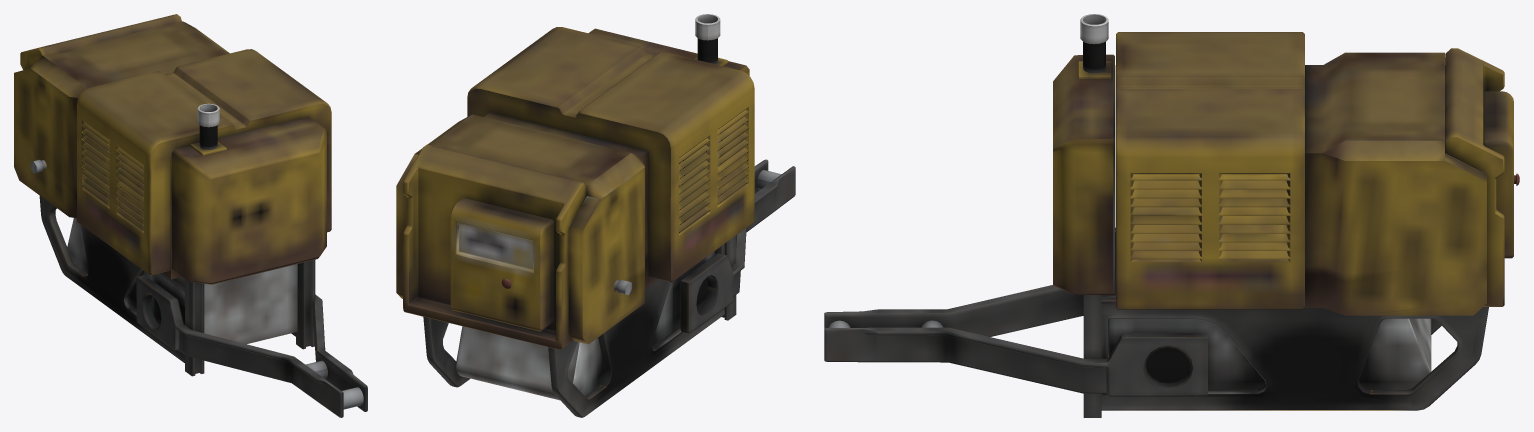
File: Generator.fbx
The picture shows the model from 3 angles, left to right: view 1: azimuth 30°, elevation 25°; view 2: azimuth 150°, elevation 25°; view 3: azimuth 270°, elevation 25°; orthographic projection. The views are drawn at different scales.
Parts seen in each view (by area): view 1: Generator; view 2: Generator, Generator Gear Box; view 3: Generator, Generator Gear Box.
Boxes of the visible parts, x1,y1,x2,y2 form: Generator: [14, 14, 367, 417]; Generator: [396, 14, 795, 417]; Generator Gear Box: [450, 198, 553, 331]; Generator: [824, 14, 1504, 417]; Generator Gear Box: [1483, 91, 1519, 258].
Bounding box in the file's own units: 258 × 347 × 655.
1 material, 1 textured.
